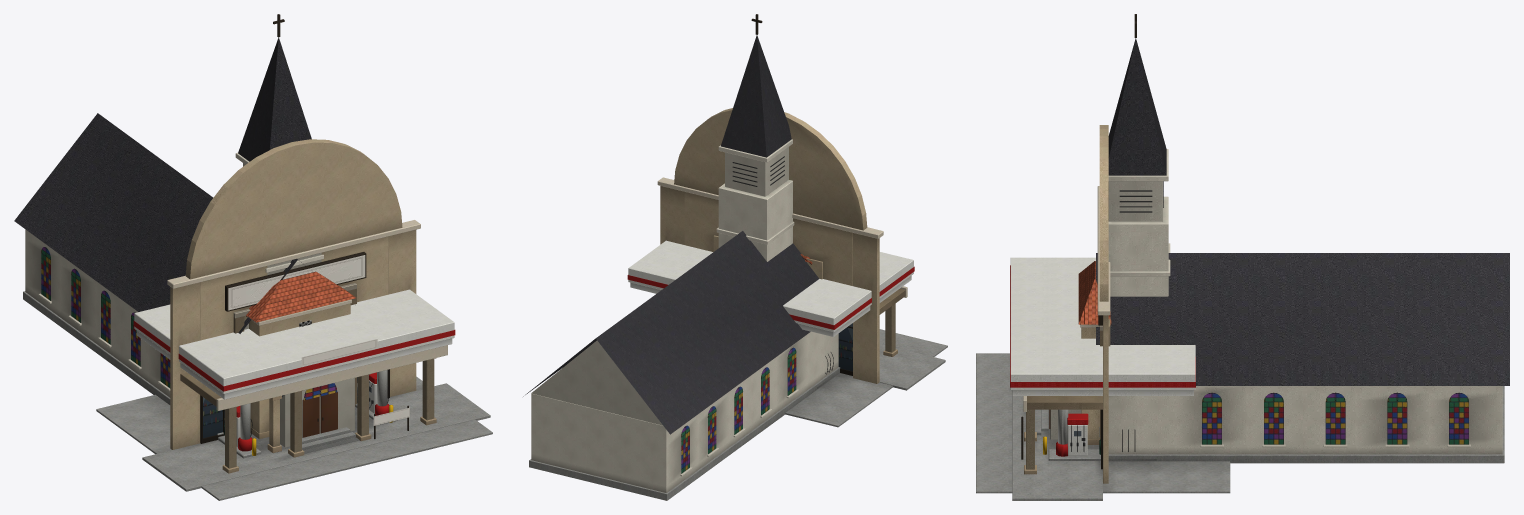
Rendered from shopkit.glb.
The picture shows the model from 3 angles, left to right: view 1: azimuth 30°, elevation 25°; view 2: azimuth 150°, elevation 25°; view 3: azimuth 270°, elevation 25°; orthographic projection. The views are drawn at different scales.
Parts seen in each view (by area): view 1: sp_entry, ch_church, gs_canopy, sm_endtower, sm_walkway; view 2: ch_church, sp_entry, gs_canopy; view 3: ch_church, gs_canopy, sp_entry, sm_endtower.
Part boxes in pixels (left/top/right/bottom): sp_entry: left=142, top=139, right=490, bottom=491; ch_church: left=14, top=14, right=409, bottom=453; gs_canopy: left=96, top=289, right=492, bottom=500; sm_endtower: left=246, top=271, right=355, bottom=439; sm_walkway: left=267, top=395, right=281, bottom=452; ch_church: left=523, top=14, right=840, bottom=500; sp_entry: left=657, top=108, right=945, bottom=390; gs_canopy: left=627, top=240, right=947, bottom=427; ch_church: left=1021, top=14, right=1509, bottom=463; gs_canopy: left=976, top=257, right=1230, bottom=493; sp_entry: left=1012, top=125, right=1110, bottom=500; sm_endtower: left=1078, top=261, right=1111, bottom=444.
Bounding box in the file's own units: 20 × 24.93 × 29.4.
39 materials, 34 textured.
